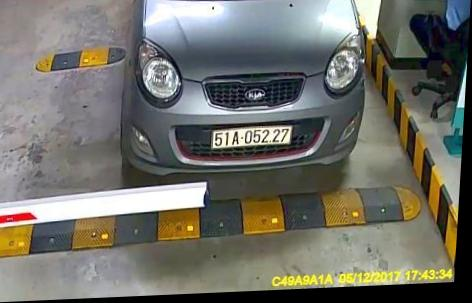License_Plate: (207, 122, 293, 152)
